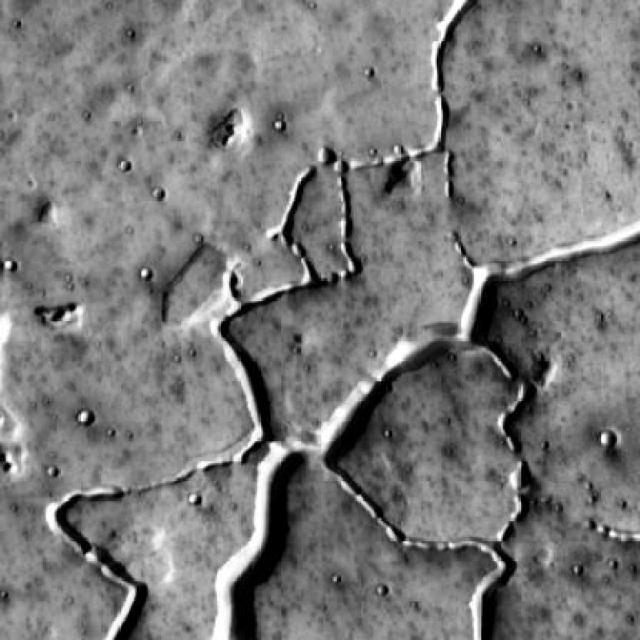crater: (598, 430, 617, 448), (634, 434, 640, 454)
